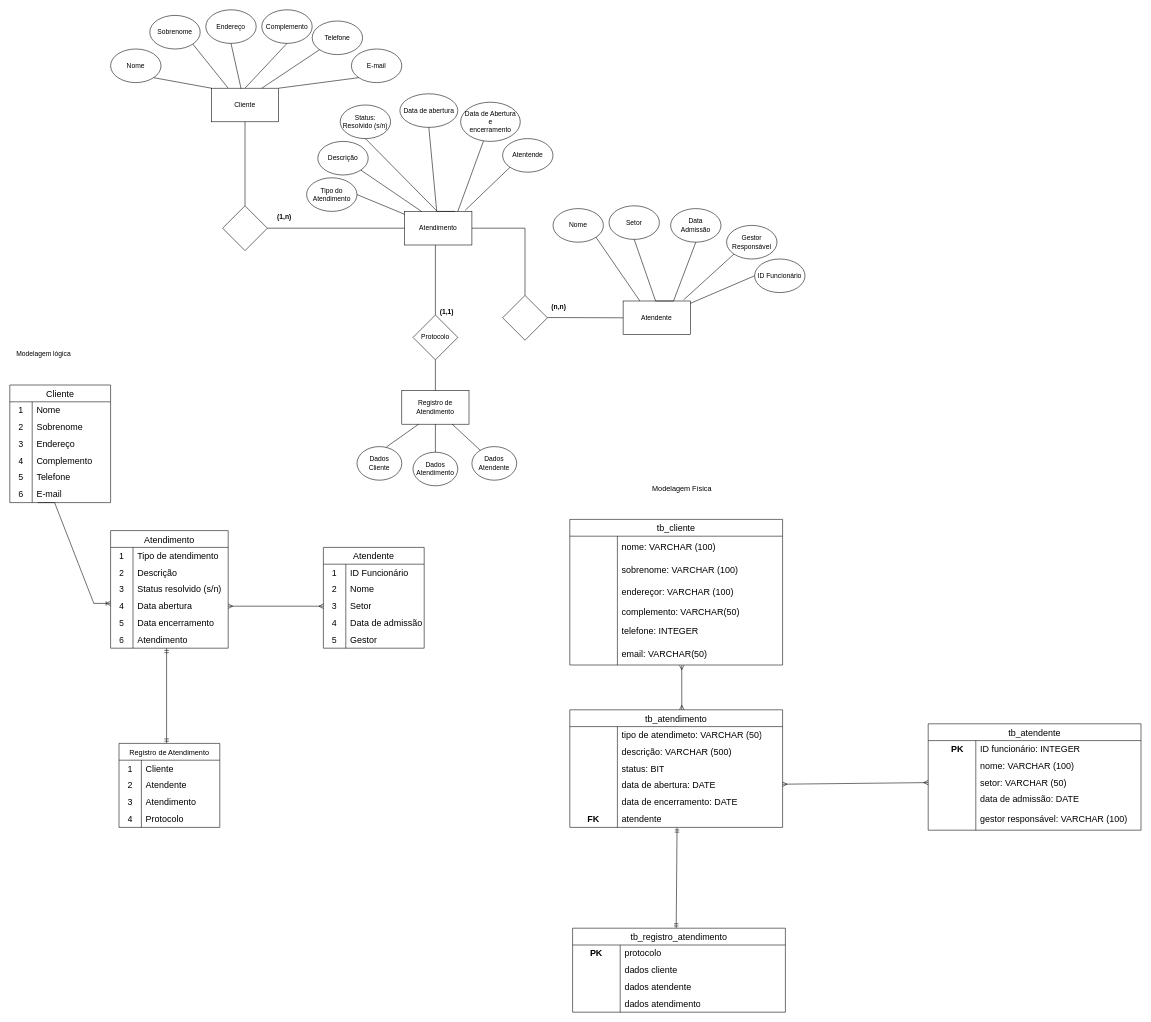
This 1151x1022 diagram has some shape labels left out. Here are the shapes that lost their labels. From the top down, the centre of each, then its label:
At (x=244, y=228): "Contato".
At (x=524, y=317): "Tratativa".
